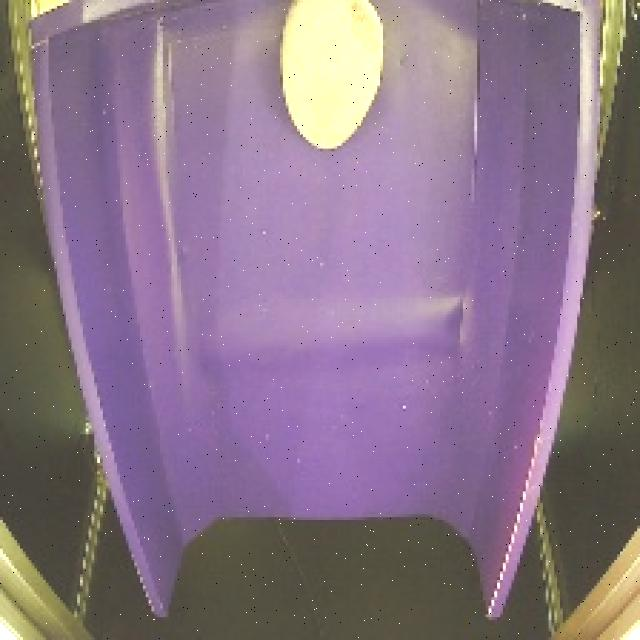cobbles: (271, 0, 395, 156)
